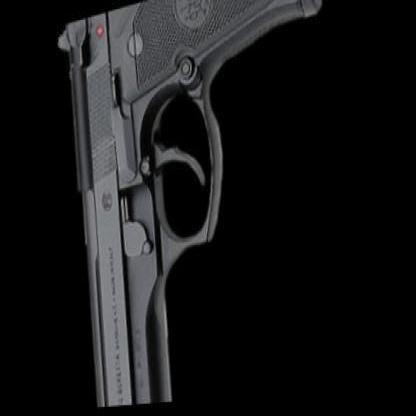pistol: (47, 0, 353, 408)
